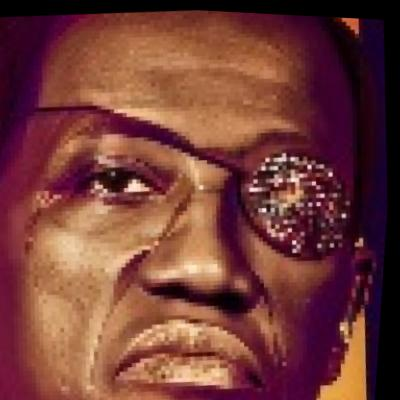angry: (13, 1, 355, 400)
